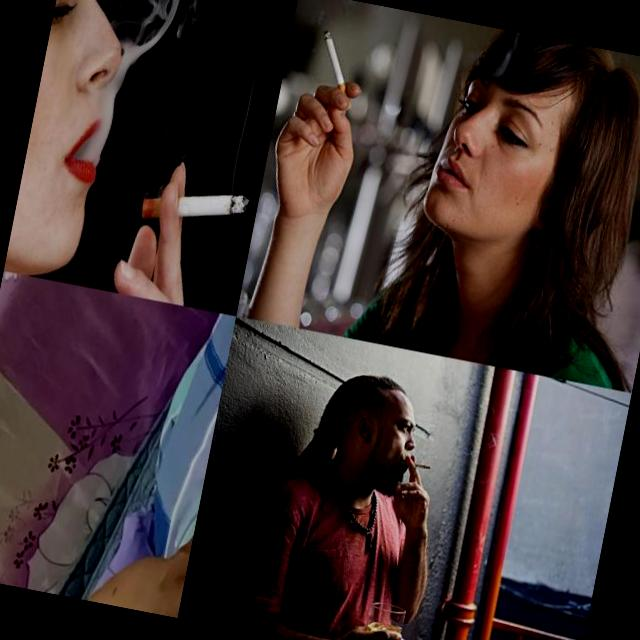cigarette: (134, 173, 252, 242), (308, 28, 365, 112), (400, 456, 434, 476)
